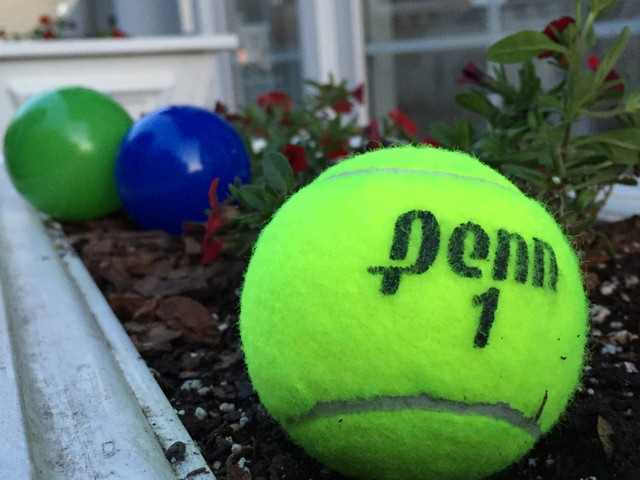Ball: (5, 87, 133, 221)
